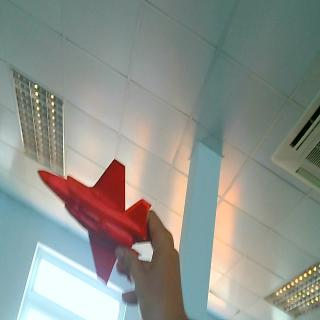Jet: (36, 158, 151, 286)
